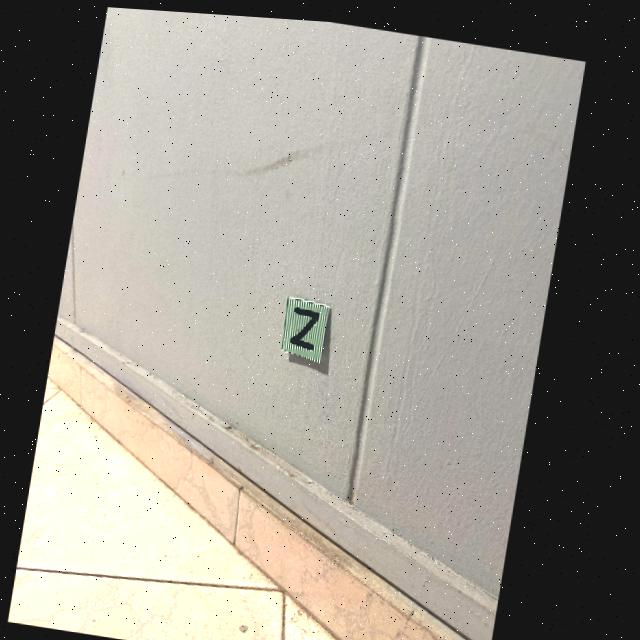Z: (295, 302, 324, 346)
